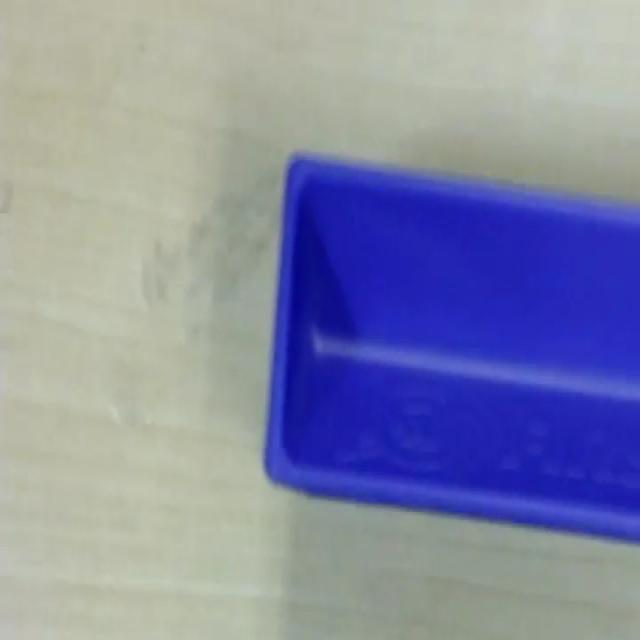blue_block: (263, 153, 640, 550)
